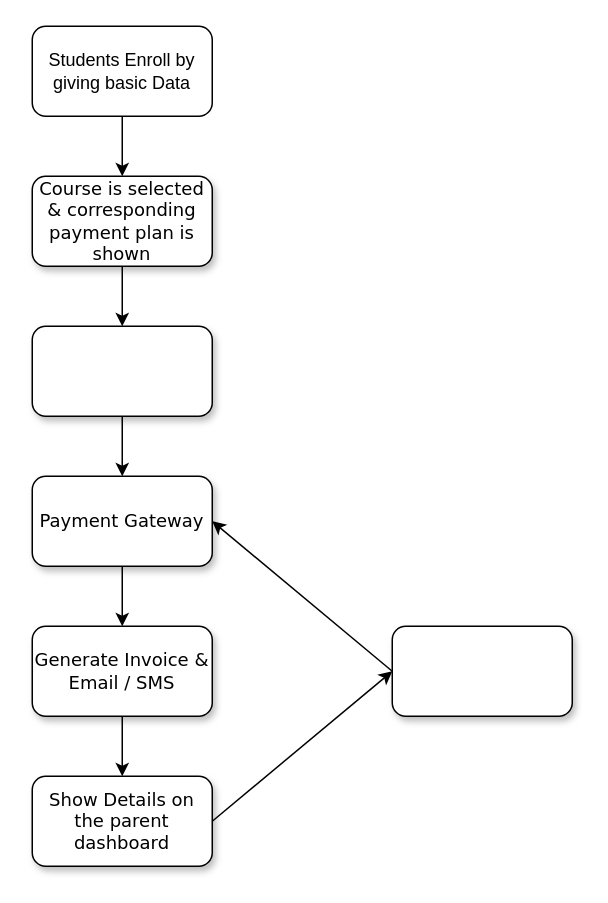
This 608x903 diagram has some shape labels left out. The centre of each missing label's shape, as x and y in pixels:
"Pay 1st installment of corresponding plan" goes at point 123,373.
"Pay Next Installment" goes at point 483,673.
